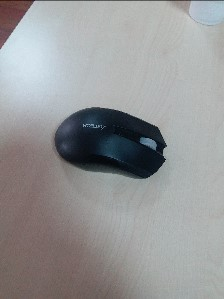mouse: (52, 106, 169, 183)
